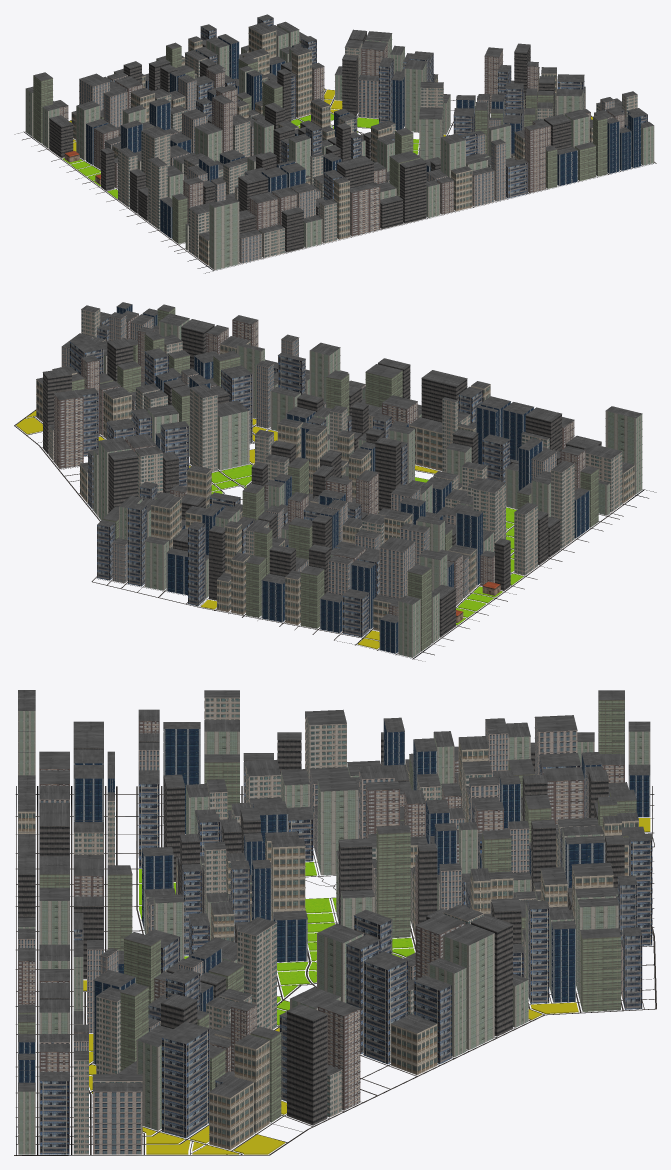
File: city-block_2.fbx
3 views of the same model, one above another, from view 1: azimuth 30°, elevation 25°; view 2: azimuth 150°, elevation 25°; view 3: azimuth 270°, elevation 25° (orthographic). The views are drawn at different scales.
Visible parts, largest first — view 1: blocks.749; view 2: blocks.749; view 3: blocks.749.
Part boxes in pixels (<box>): blocks.749: <box>14,14,656,273</box>; blocks.749: <box>14,302,656,661</box>; blocks.749: <box>14,690,656,1155</box>.
Bounding box in the file's own units: 48900 × 6466 × 35928.
